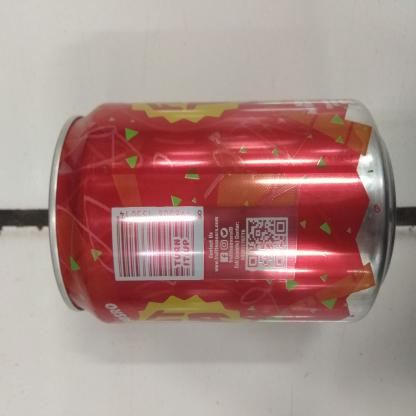can: (45, 92, 400, 328)
